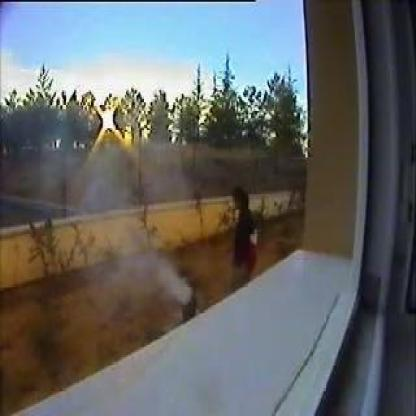-: (111, 237, 191, 304)
